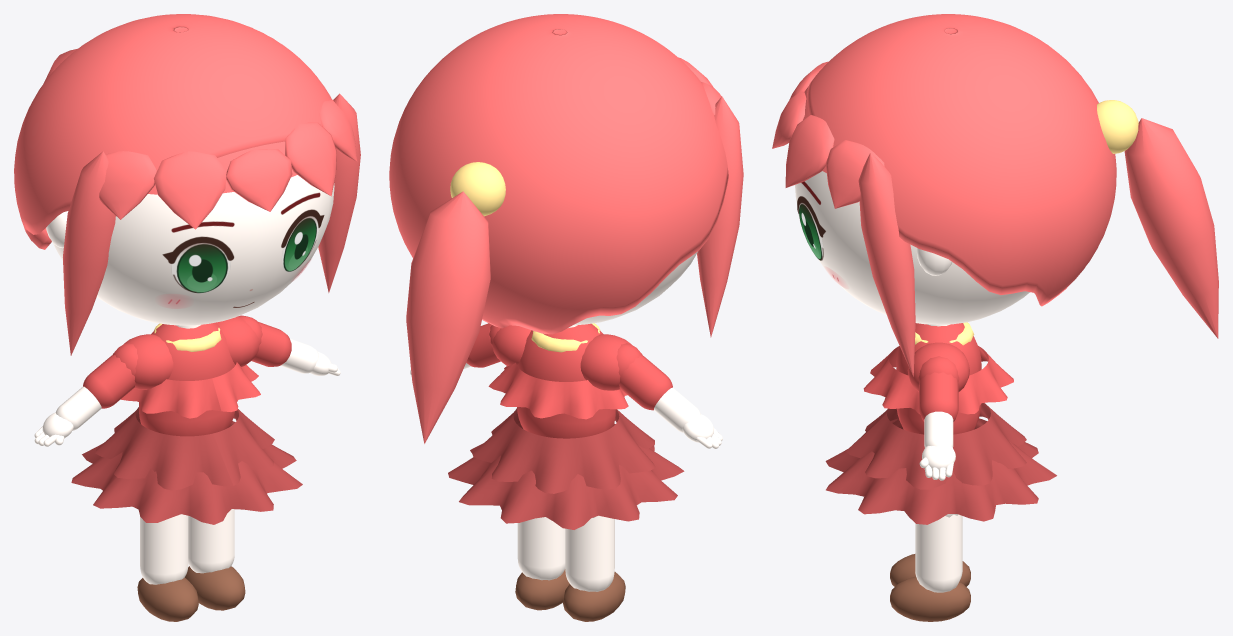
The model's file is ruby.glb.
The picture shows the model from 3 angles, left to right: view 1: azimuth 30°, elevation 25°; view 2: azimuth 150°, elevation 25°; view 3: azimuth 270°, elevation 25°; orthographic projection. The views are drawn at different scales.
Visible parts, largest first — view 1: Head, Upper, Legs, ArmR, ArmL; view 2: Head, Upper, HairBack0, Legs, ArmR, ArmL; view 3: Head, Upper, HairBack0, Legs, ArmL.
Part boxes in pixels (x1,y1,x2,y2): Head: [14, 14, 360, 355]; Upper: [71, 316, 302, 524]; Legs: [137, 509, 245, 621]; ArmR: [34, 343, 137, 446]; ArmL: [238, 315, 340, 375]; Head: [389, 14, 743, 337]; Upper: [448, 323, 684, 529]; HairBack0: [406, 162, 505, 443]; Legs: [515, 515, 625, 621]; ArmR: [616, 343, 722, 448]; ArmL: [410, 323, 500, 375]; Head: [772, 14, 1116, 376]; Upper: [825, 322, 1056, 524]; HairBack0: [1097, 100, 1218, 338]; Legs: [890, 514, 970, 621]; ArmL: [918, 356, 959, 480].
Bounding box in the file's own units: 1.68 × 3.06 × 2.15.
Materials: 9 (1 with a texture image).
